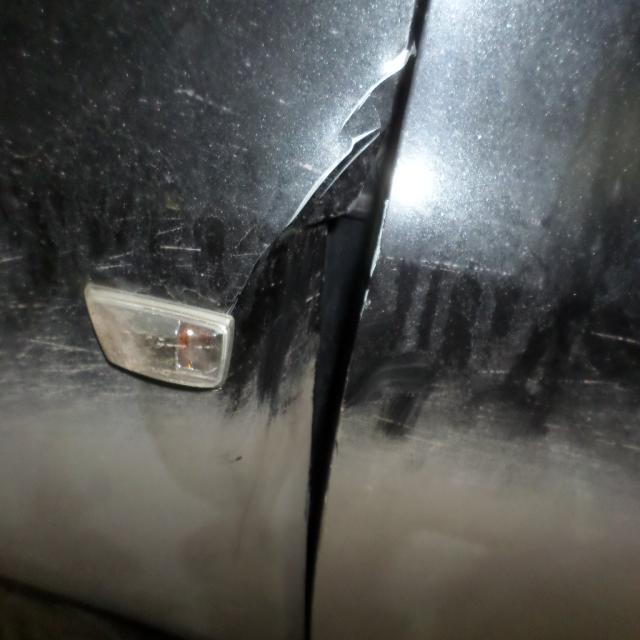Dechirure: (232, 136, 381, 313), (340, 52, 414, 132)
Rayure: (8, 219, 232, 293), (159, 74, 312, 176), (445, 320, 640, 395)
